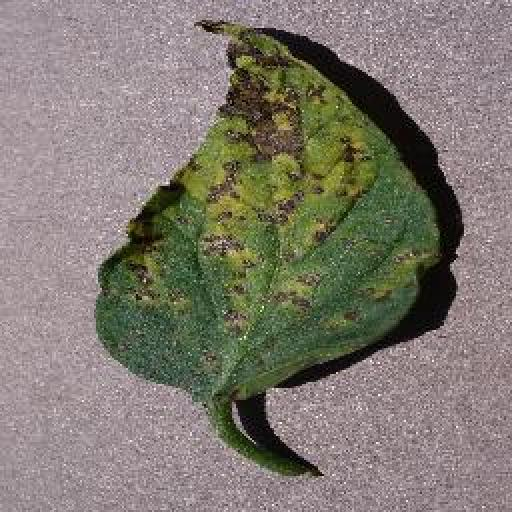disease_tomato: (93, 14, 436, 398)
